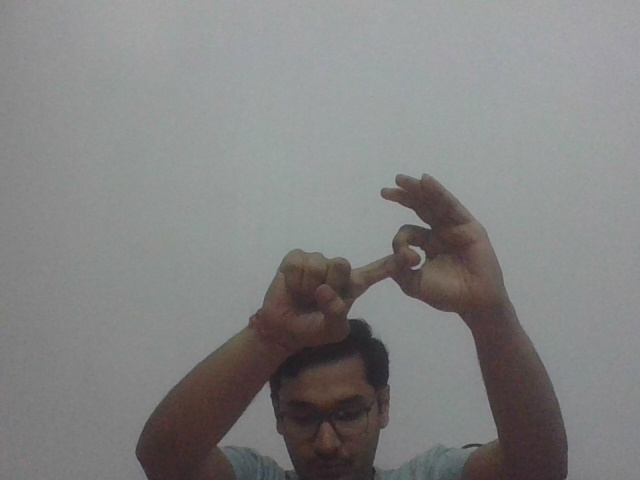Q: (279, 171, 505, 334)
